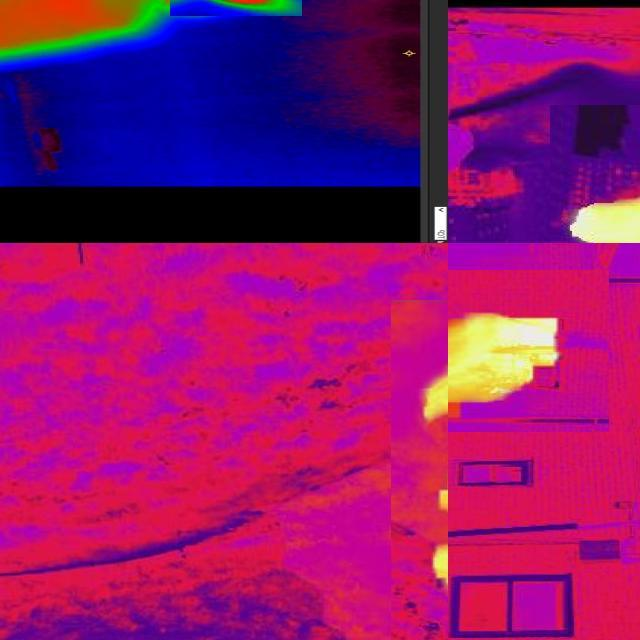fire: (449, 312, 563, 411), (415, 368, 450, 585), (559, 199, 640, 244), (170, 1, 302, 16)
